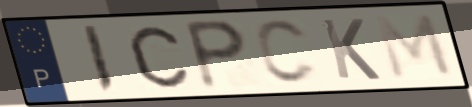C: (251, 17, 321, 87), (125, 23, 192, 90)
I: (79, 23, 119, 95)
K: (317, 16, 384, 82)
M: (370, 12, 458, 83)
P: (180, 18, 251, 93)
